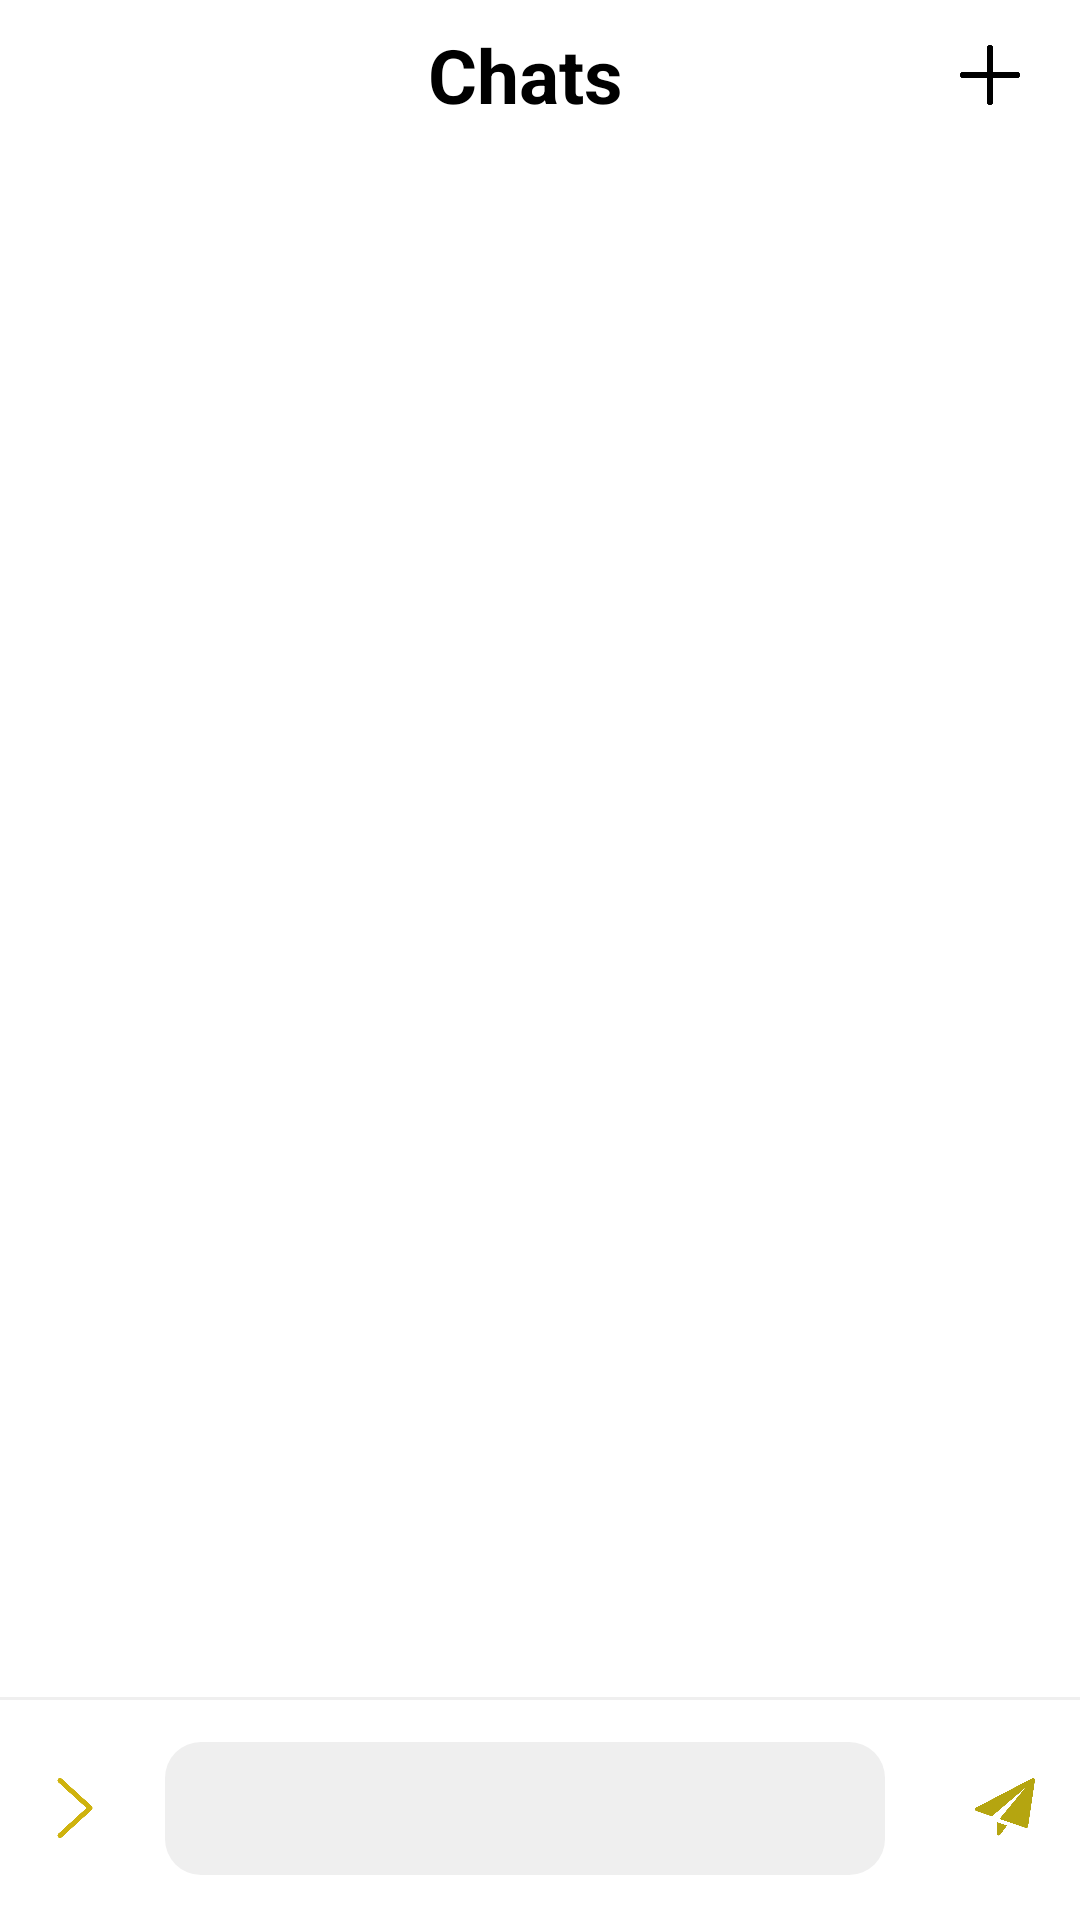

Icon click points for this 1080px x 1920px phone screenshot, format point (x, y):
plus: point (990, 75)
right arrow angle: point (75, 1808)
send message: point (1005, 1807)
